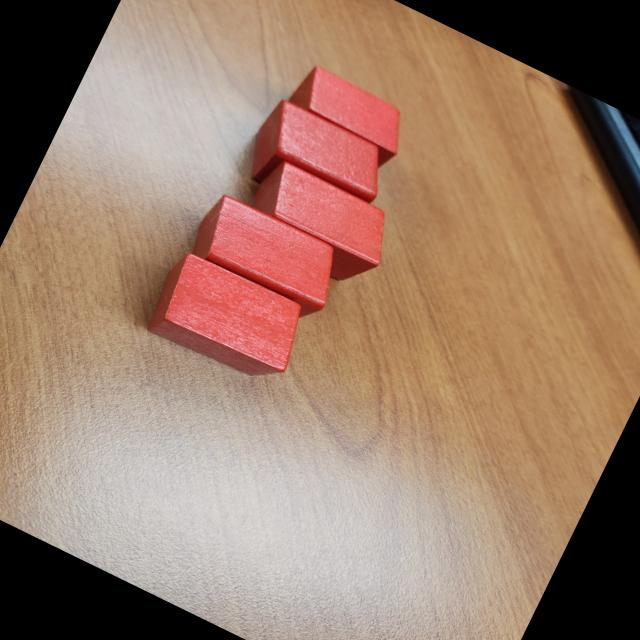red: (140, 245, 312, 392), (232, 154, 402, 296), (179, 188, 350, 329), (236, 94, 397, 232), (274, 59, 418, 174)
